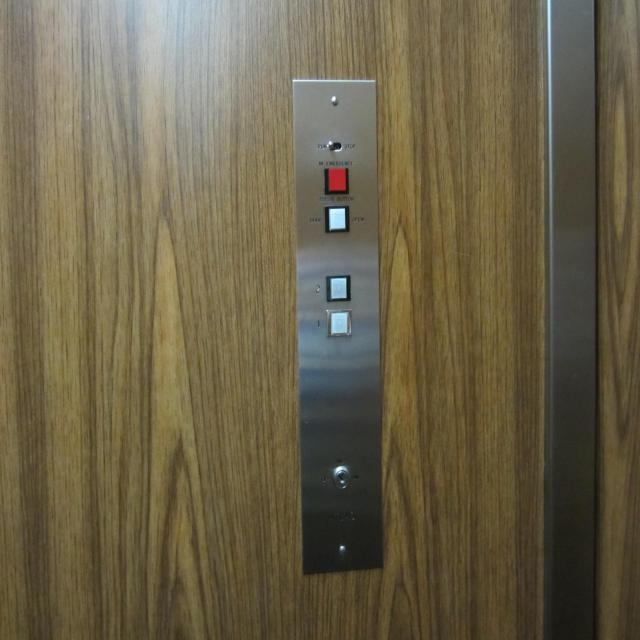empty: (323, 306, 353, 339), (324, 273, 354, 303), (324, 166, 351, 195), (323, 205, 350, 232)
keyhole: (330, 463, 352, 491)
switch: (327, 138, 343, 154)
